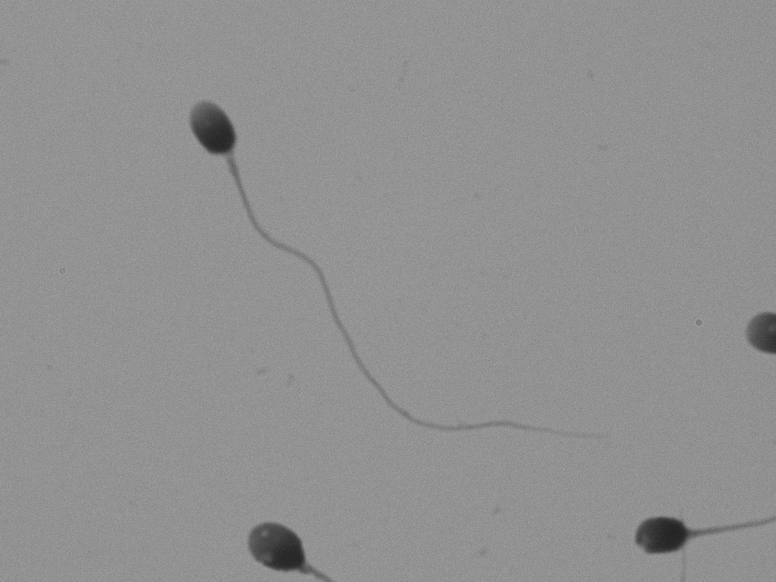Abnormal: (219, 496, 367, 577)
Normal: (180, 69, 647, 466)
